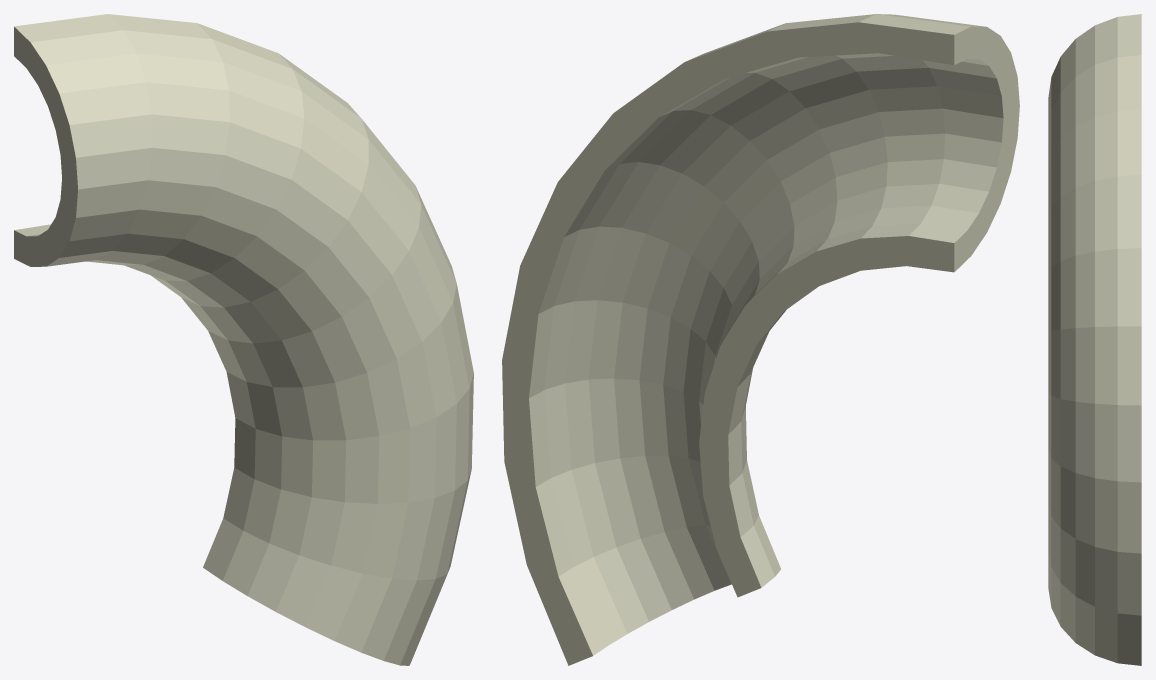
Rendered from section_170.obj.
The picture shows the model from 3 angles, left to right: view 1: azimuth 30°, elevation 25°; view 2: azimuth 150°, elevation 25°; view 3: azimuth 270°, elevation 25°; orthographic projection. The views are drawn at different scales.
Size of the model in its own units: 15.94 by 24.43 by 4.
